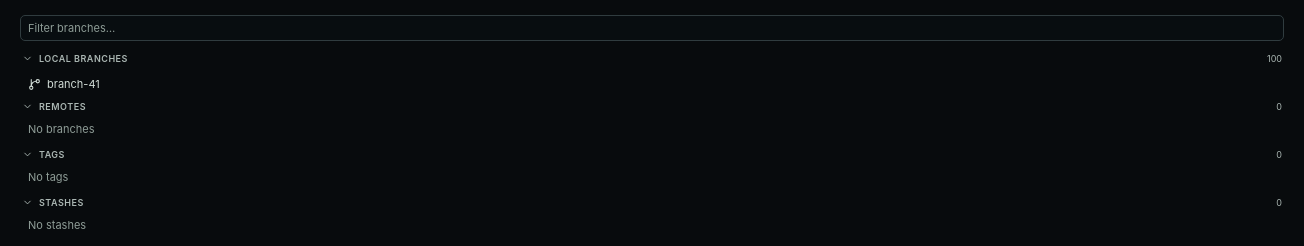
Scenario: keeps section headers mounted and pins them while scrolling
(page scrolled)
Click the button "LOCAL BRANCHES 100" at (83, 58), box [12, 45, 1292, 71]
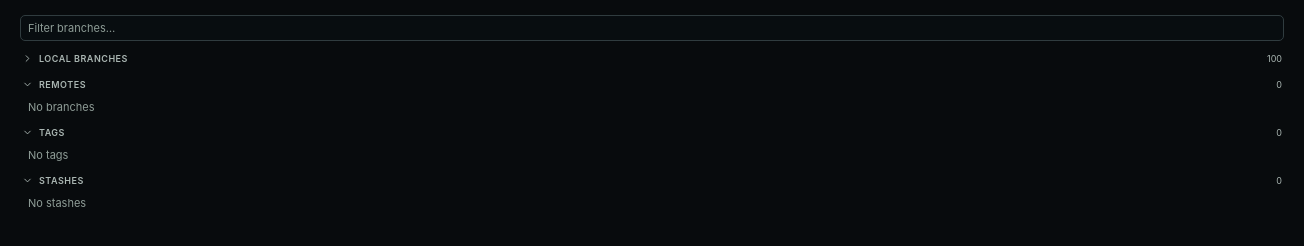
Now the button "LOCAL BRANCHES 100" is collapsed, box [12, 45, 1292, 71]
